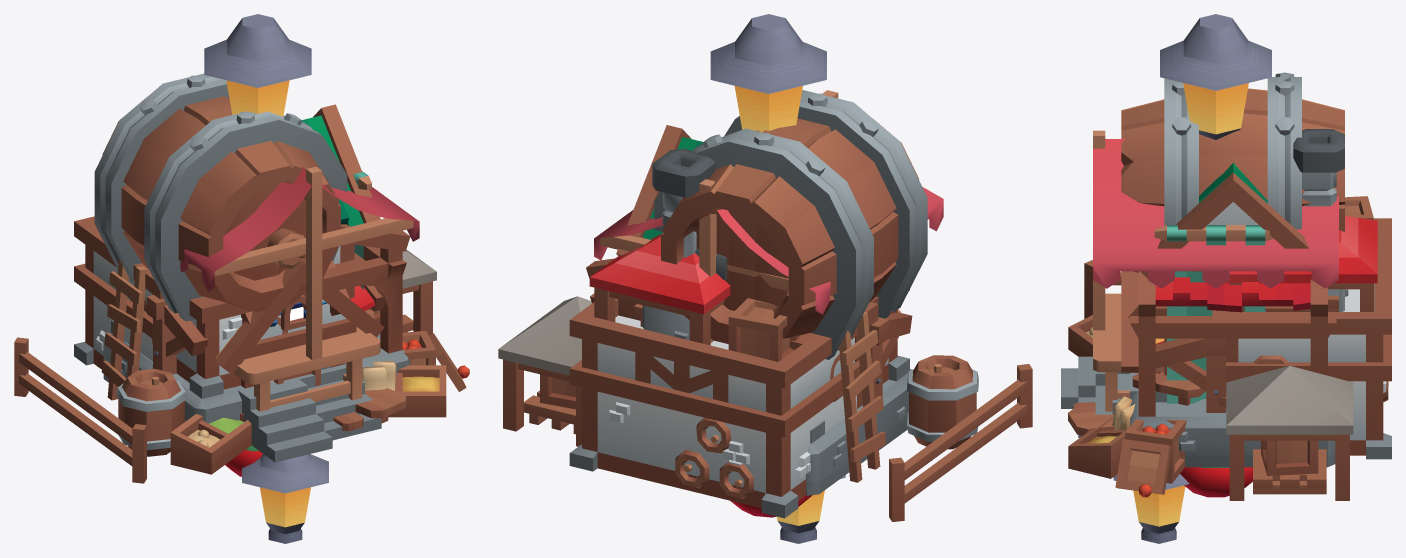
File: market.glb
The picture shows the model from 3 angles, left to right: view 1: azimuth 30°, elevation 25°; view 2: azimuth 150°, elevation 25°; view 3: azimuth 270°, elevation 25°; orthographic projection. The views are drawn at different scales.
Parts seen in each view (by area): view 1: tavern/building_tavern_red, market-red/building_market_red, stall-red/stall-red, street-lamp/lantern, home-a/building_home_A_yellow, home-b/building_home_B_green, wall-lamp/lantern-hanging, table/stall; view 2: market-red/building_market_red, tavern/building_tavern_red, street-lamp/lantern, home-b/building_home_B_green, stall-red/stall-red, wall-lamp/lantern-hanging; view 3: market-red/building_market_red, tavern/building_tavern_red, stall-red/stall-red, home-b/building_home_B_green, street-lamp/lantern, banner-green/banner-green, table/stall, wall-lamp/lantern-hanging, home-a/building_home_A_yellow, potion-large-red/potion_large_red.
Boxes of the visible parts, box(x1,y1,x2,y2) form: tavern/building_tavern_red: box(94, 73, 410, 462); market-red/building_market_red: box(14, 216, 469, 483); stall-red/stall-red: box(180, 166, 419, 411); street-lamp/lantern: box(204, 14, 311, 116); home-a/building_home_A_yellow: box(214, 260, 384, 387); home-b/building_home_B_green: box(205, 104, 381, 440); wall-lamp/lantern-hanging: box(242, 454, 328, 543); table/stall: box(237, 327, 380, 411); market-red/building_market_red: box(498, 234, 1032, 521); tavern/building_tavern_red: box(586, 90, 927, 498); street-lamp/lantern: box(710, 14, 826, 132); home-b/building_home_B_green: box(616, 125, 807, 340); stall-red/stall-red: box(594, 90, 943, 342); wall-lamp/lantern-hanging: box(776, 475, 845, 543); market-red/building_market_red: box(1068, 196, 1391, 500); tavern/building_tavern_red: box(1061, 72, 1388, 467); stall-red/stall-red: box(1093, 130, 1338, 398); home-b/building_home_B_green: box(1078, 129, 1348, 437); street-lamp/lantern: box(1160, 14, 1271, 139); banner-green/banner-green: box(1154, 225, 1273, 403); table/stall: box(1093, 293, 1164, 411); wall-lamp/lantern-hanging: box(1113, 474, 1189, 543); home-a/building_home_A_yellow: box(1121, 271, 1164, 372); potion-large-red/potion_large_red: box(1180, 467, 1252, 497).
Bounding box in the file's own units: 1.8 × 2.3 × 1.34.
42 materials, 42 textured.
